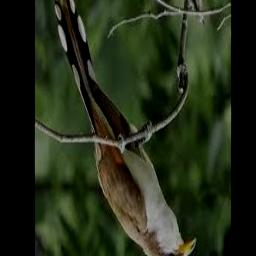Cuckoo: (54, 0, 195, 256)
